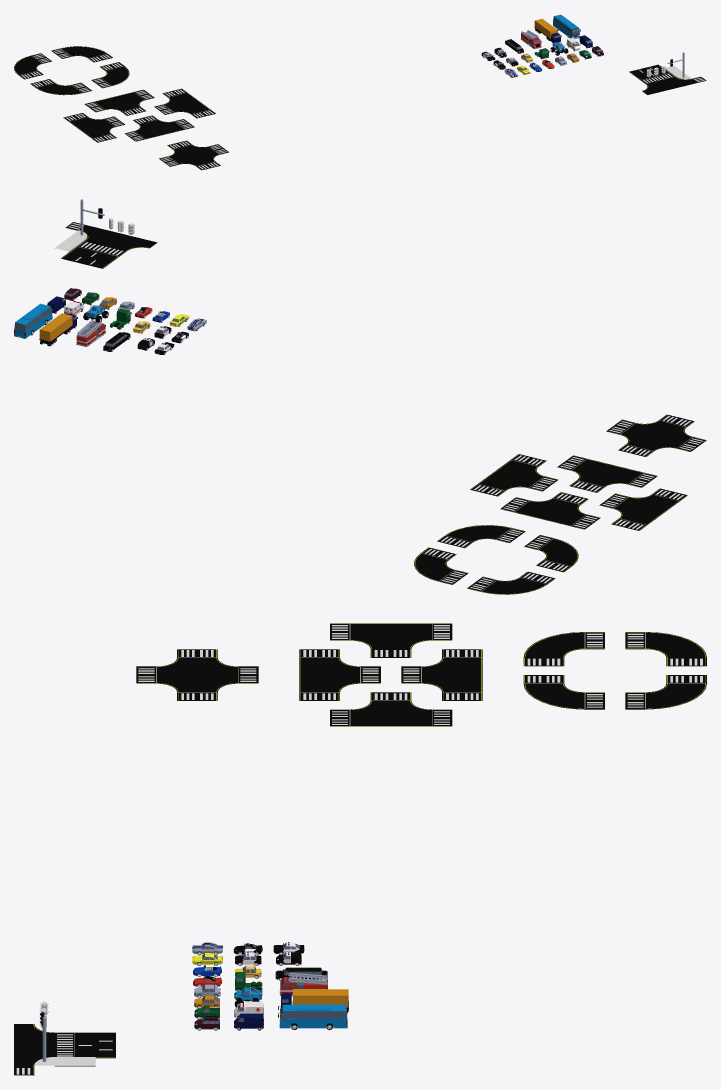
The model's file is Traffic.fbx.
3 views of the same model, one above another, from view 1: azimuth 30°, elevation 25°; view 2: azimuth 150°, elevation 25°; view 3: azimuth 270°, elevation 25° (orthographic). The views are drawn at different scales.
Visible parts, largest first — view 1: Turning.007, Turning.018, Turning.006, Turning.013, Turning.012, Turning.019, Turning.027, Turning.028, Turning.001, Bus, Truck with trailer, Firetruck; view 2: Turning.007, Turning.018, Turning.006, Turning.013, Turning.012, Turning.001, Turning.027, Turning.019, Turning.028, Bus, Truck with trailer; view 3: Turning.007, Turning.013, Turning.012, Turning.006, Turning.018, Turning.028, Turning.001, Turning.019, Turning.027, Bus, Truck with trailer, Firetruck.
Part boxes in pixels (x1=…): Turning.007: x1=159, y1=140, x2=229, y2=170; Turning.018: x1=84, y1=89, x2=154, y2=115; Turning.006: x1=124, y1=115, x2=194, y2=141; Turning.013: x1=63, y1=113, x2=124, y2=142; Turning.012: x1=154, y1=88, x2=215, y2=118; Turning.019: x1=51, y1=46, x2=112, y2=62; Turning.027: x1=91, y1=62, x2=129, y2=88; Turning.028: x1=30, y1=79, x2=92, y2=95; Turning.001: x1=14, y1=53, x2=51, y2=79; Bus: x1=553, y1=14, x2=580, y2=38; Truck with trailer: x1=534, y1=18, x2=561, y2=42; Firetruck: x1=520, y1=30, x2=541, y2=49; Turning.007: x1=606, y1=414, x2=706, y2=456; Turning.018: x1=500, y1=492, x2=600, y2=529; Turning.006: x1=557, y1=455, x2=657, y2=492; Turning.013: x1=599, y1=488, x2=687, y2=530; Turning.012: x1=470, y1=454, x2=558, y2=496; Turning.001: x1=467, y1=571, x2=555, y2=594; Turning.027: x1=437, y1=525, x2=525, y2=548; Turning.019: x1=414, y1=547, x2=468, y2=584; Turning.028: x1=524, y1=535, x2=578, y2=572; Bus: x1=14, y1=303, x2=53, y2=338; Truck with trailer: x1=39, y1=313, x2=77, y2=346; Turning.007: x1=136, y1=649, x2=258, y2=700; Turning.013: x1=330, y1=623, x2=452, y2=657; Turning.012: x1=330, y1=692, x2=452, y2=726; Turning.006: x1=299, y1=649, x2=380, y2=700; Turning.018: x1=401, y1=649, x2=482, y2=700; Turning.028: x1=523, y1=632, x2=604, y2=666; Turning.001: x1=625, y1=632, x2=706, y2=666; Turning.019: x1=625, y1=675, x2=706, y2=709; Turning.027: x1=523, y1=675, x2=604, y2=709; Bus: x1=278, y1=1004, x2=347, y2=1028; Truck with trailer: x1=280, y1=989, x2=348, y2=1011; Firetruck: x1=279, y1=972, x2=327, y2=996.
Size of the model in its own units: 21000 by 982 by 13600.
